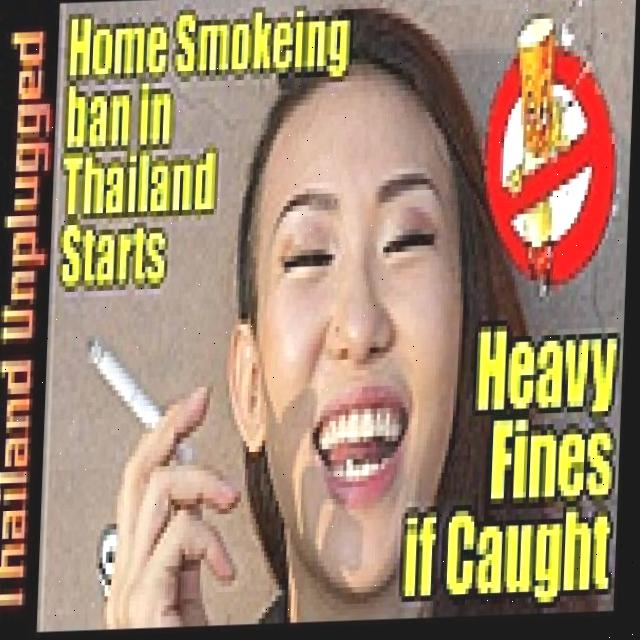cigarette: (80, 332, 205, 471)
